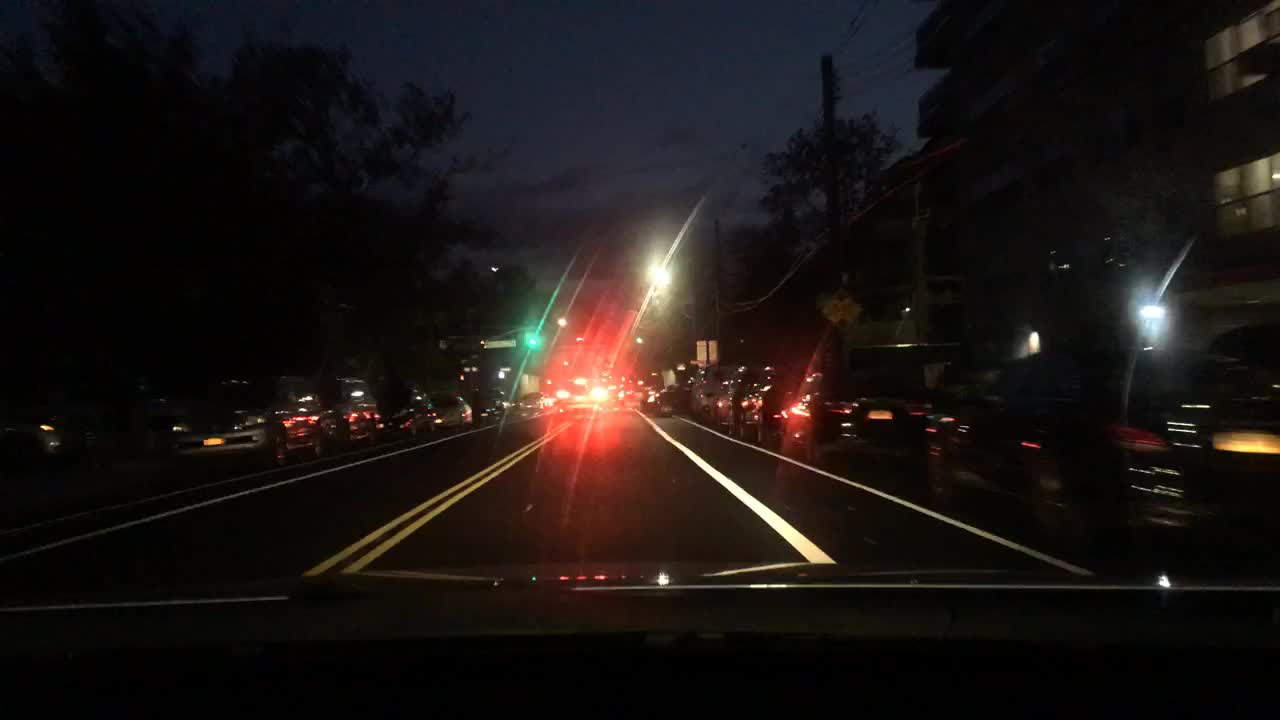car: (1032, 338, 1279, 556), (910, 348, 1079, 504), (775, 332, 960, 474), (156, 371, 338, 476), (728, 359, 820, 448), (315, 373, 387, 450), (371, 381, 439, 444), (0, 414, 65, 477), (684, 366, 749, 425), (424, 385, 474, 436), (457, 387, 516, 429), (551, 374, 612, 412), (642, 383, 689, 418), (516, 392, 548, 415), (541, 394, 558, 413)
person: (617, 384, 628, 405)
traffic light: (527, 332, 539, 348), (478, 334, 485, 352)
traffic sign: (819, 297, 845, 324), (693, 338, 719, 362), (840, 297, 861, 324), (478, 336, 518, 350), (805, 187, 827, 212)
